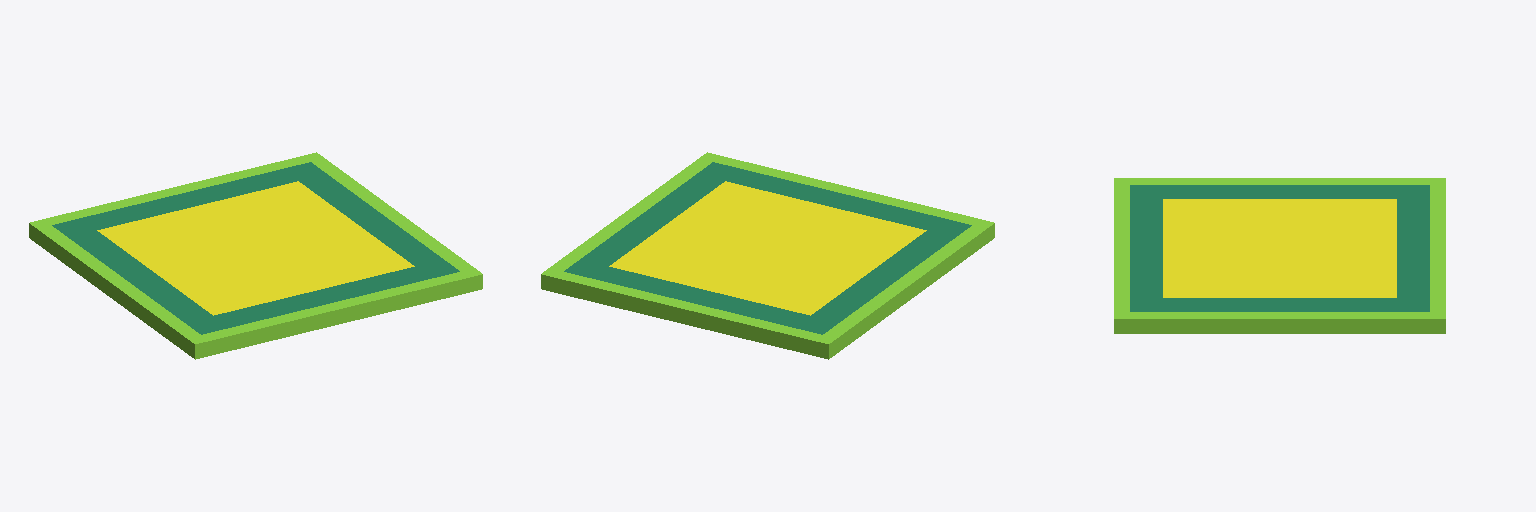
3 renders of one model, left to right at view 1: azimuth 30°, elevation 25°; view 2: azimuth 150°, elevation 25°; view 3: azimuth 270°, elevation 25°, orthographic.
Parts seen in each view (by area): view 1: bathroom_goal; view 2: bathroom_goal; view 3: bathroom_goal.
Boxes of the visible parts, x1,y1,x2,y2 form: bathroom_goal: [29, 152, 482, 359]; bathroom_goal: [541, 152, 994, 359]; bathroom_goal: [1114, 178, 1445, 333].
Bounding box in the file's own units: 20 × 1 × 20.
1 materials, 1 textured.